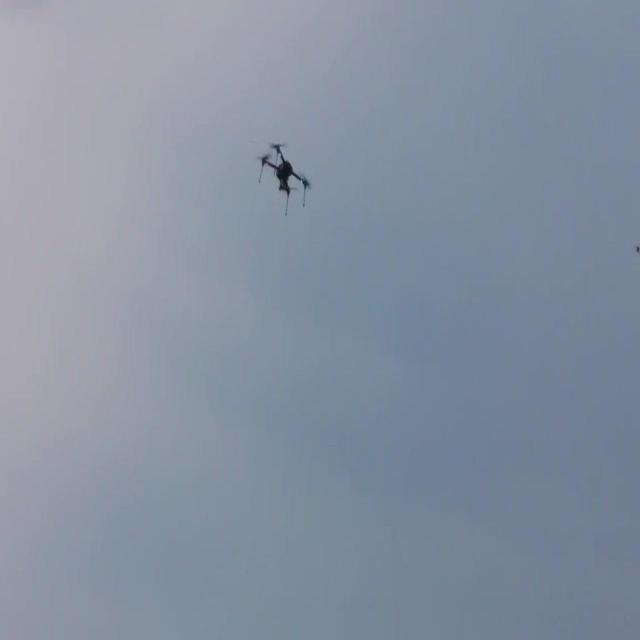UAV: (256, 141, 312, 217)
